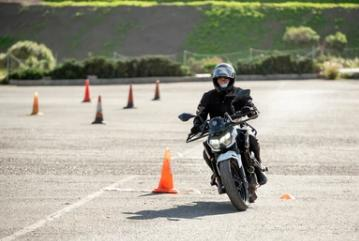front: (206, 119, 248, 205)
